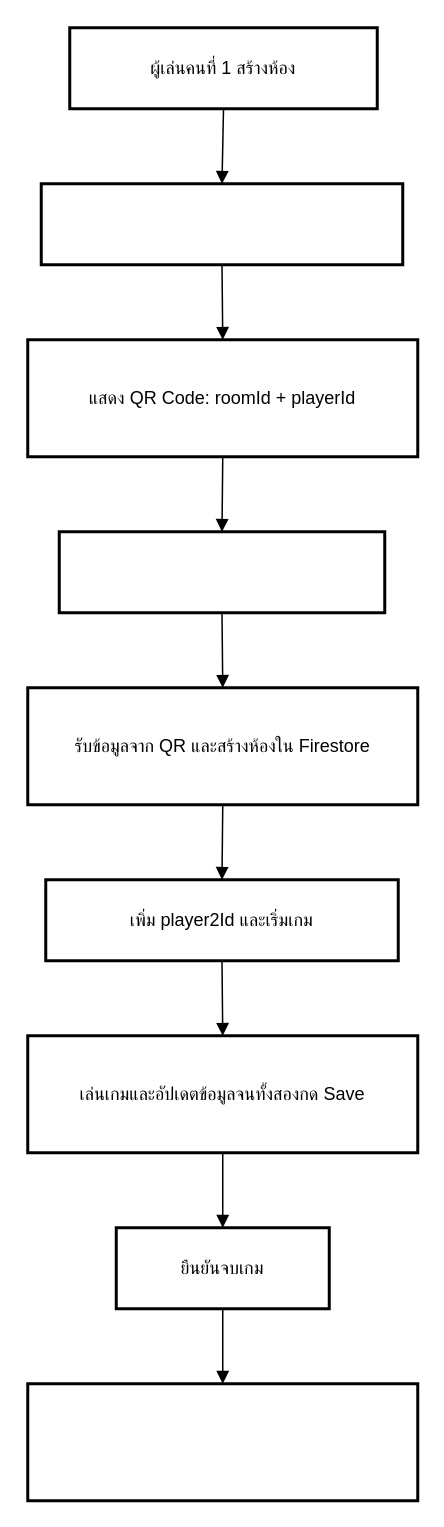
This 444x1527 diagram has some shape labels left out. The centre of each missing label's shape, as x and y in pixels:
"ผู้เล่น 2 สแกน QR Code" belongs at point 221,572.
"สร้าง roomId และ playerId" belongs at point 221,224.
"แสดงประวัติการเล่นของทั้งสองคน" belongs at point 222,1442.
